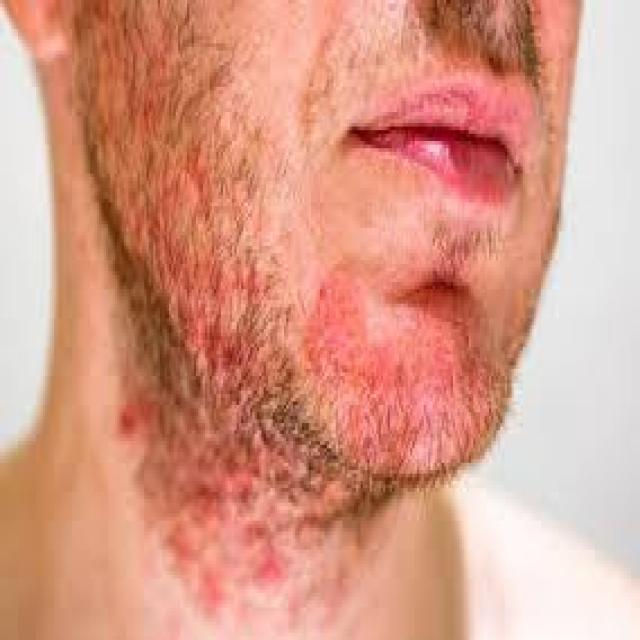burn: (13, 0, 527, 636), (276, 0, 576, 79)
